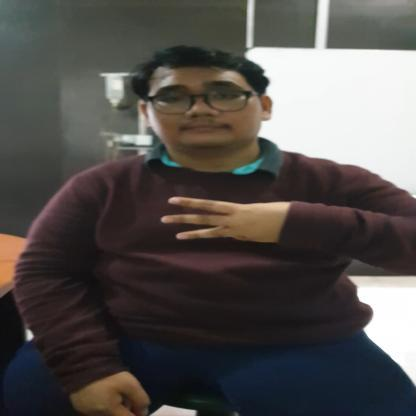E: (159, 195, 290, 242)
